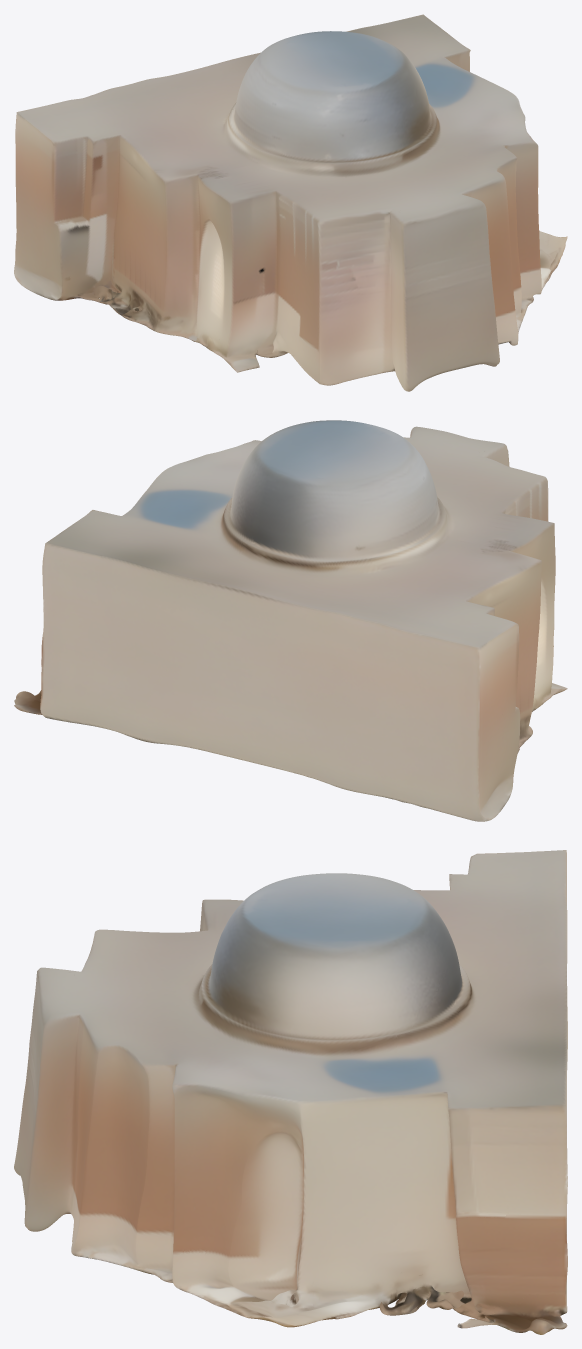
Rendered from base_basic_shaded.fbx.
3 renders of one model, top to bottom at view 1: azimuth 30°, elevation 25°; view 2: azimuth 150°, elevation 25°; view 3: azimuth 270°, elevation 25°, orthographic. The views are drawn at different scales.
Visible parts, largest first — view 1: model; view 2: model; view 3: model.
Boxes of the visible parts, x1,y1,x2,y2 form: model: [14, 14, 567, 391]; model: [14, 420, 567, 821]; model: [14, 850, 567, 1334].
Bounding box in the file's own units: 180 × 88.36 × 150.
